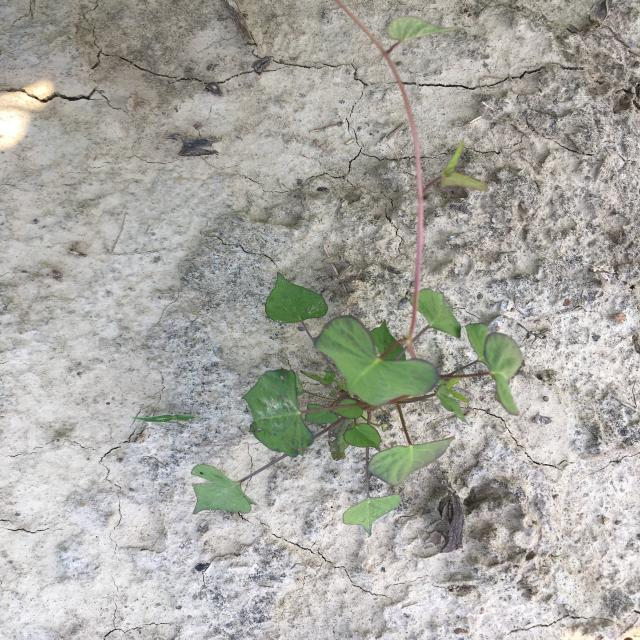MorningGlory: (191, 15, 523, 536)
